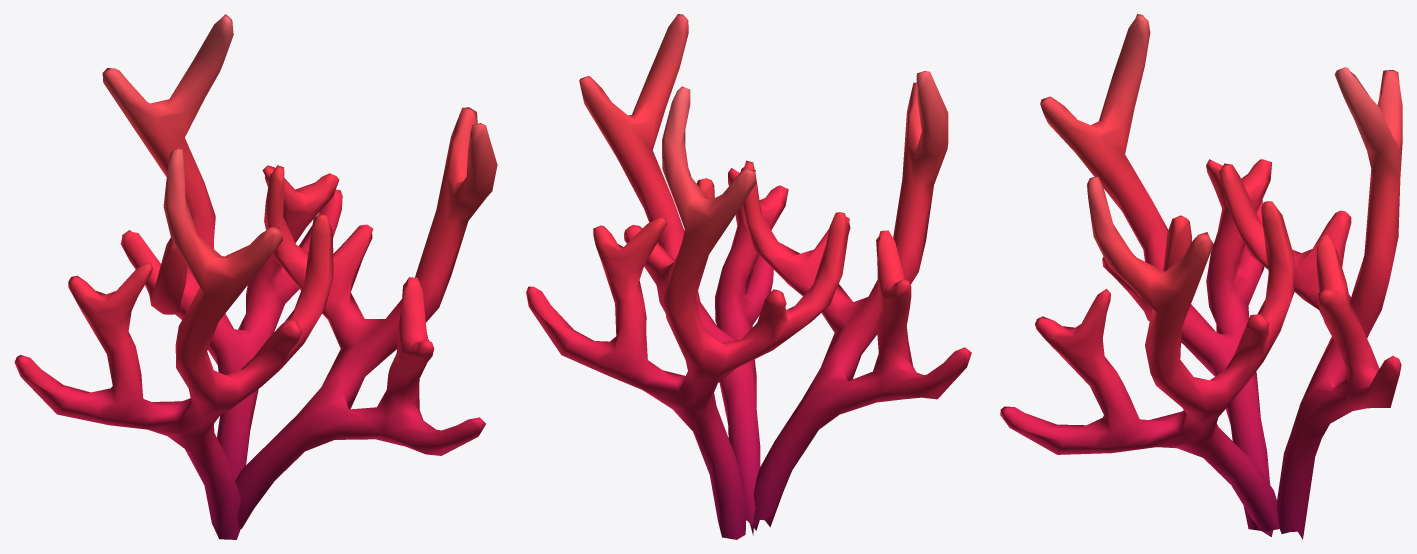
Rendered from capsule_contents_003.glb.
The picture shows the model from 3 angles, left to right: view 1: azimuth 30°, elevation 25°; view 2: azimuth 150°, elevation 25°; view 3: azimuth 270°, elevation 25°; orthographic projection. The views are drawn at different scales.
Parts seen in each view (by area): view 1: Сapsule_contents_003; view 2: Сapsule_contents_003; view 3: Сapsule_contents_003.
Part boxes in pixels (bbox=[...]): Сapsule_contents_003: bbox=[14, 14, 497, 539]; Сapsule_contents_003: bbox=[526, 14, 971, 539]; Сapsule_contents_003: bbox=[1000, 14, 1402, 539].
Size of the model in its own units: 1.09 by 1.17 by 0.8711.
1 material, 1 textured.
